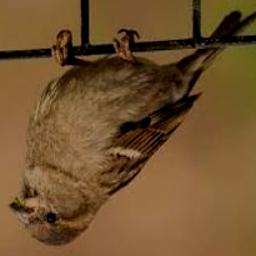Sparrow: (9, 11, 256, 246)
